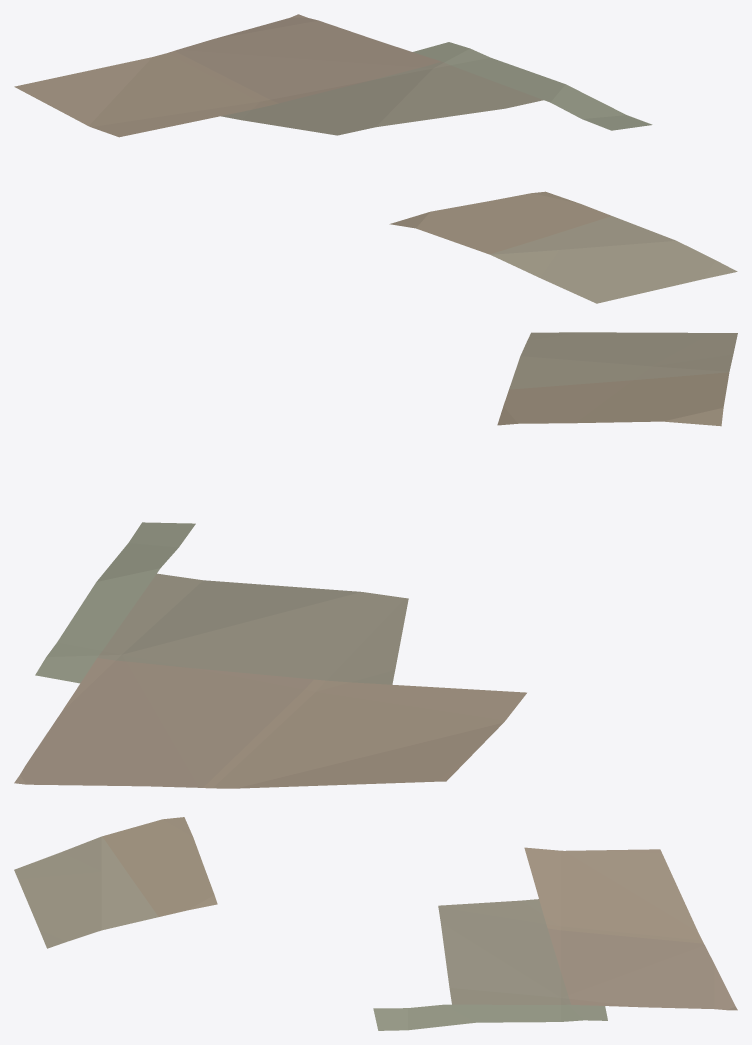
The model's file is farm_0_-3_soil.glb.
The picture shows the model from 3 angles, top to bottom: view 1: azimuth 30°, elevation 25°; view 2: azimuth 150°, elevation 25°; view 3: azimuth 270°, elevation 25°; orthographic projection. The views are drawn at different scales.
Parts seen in each view (by area): view 1: geometry_0; view 2: geometry_0; view 3: geometry_0.
Part boxes in pixels (bbox=[...]): geometry_0: bbox=[14, 14, 737, 303]; geometry_0: bbox=[14, 332, 737, 788]; geometry_0: bbox=[14, 817, 737, 1030].
Size of the model in its own units: 211 by 54.45 by 378.
